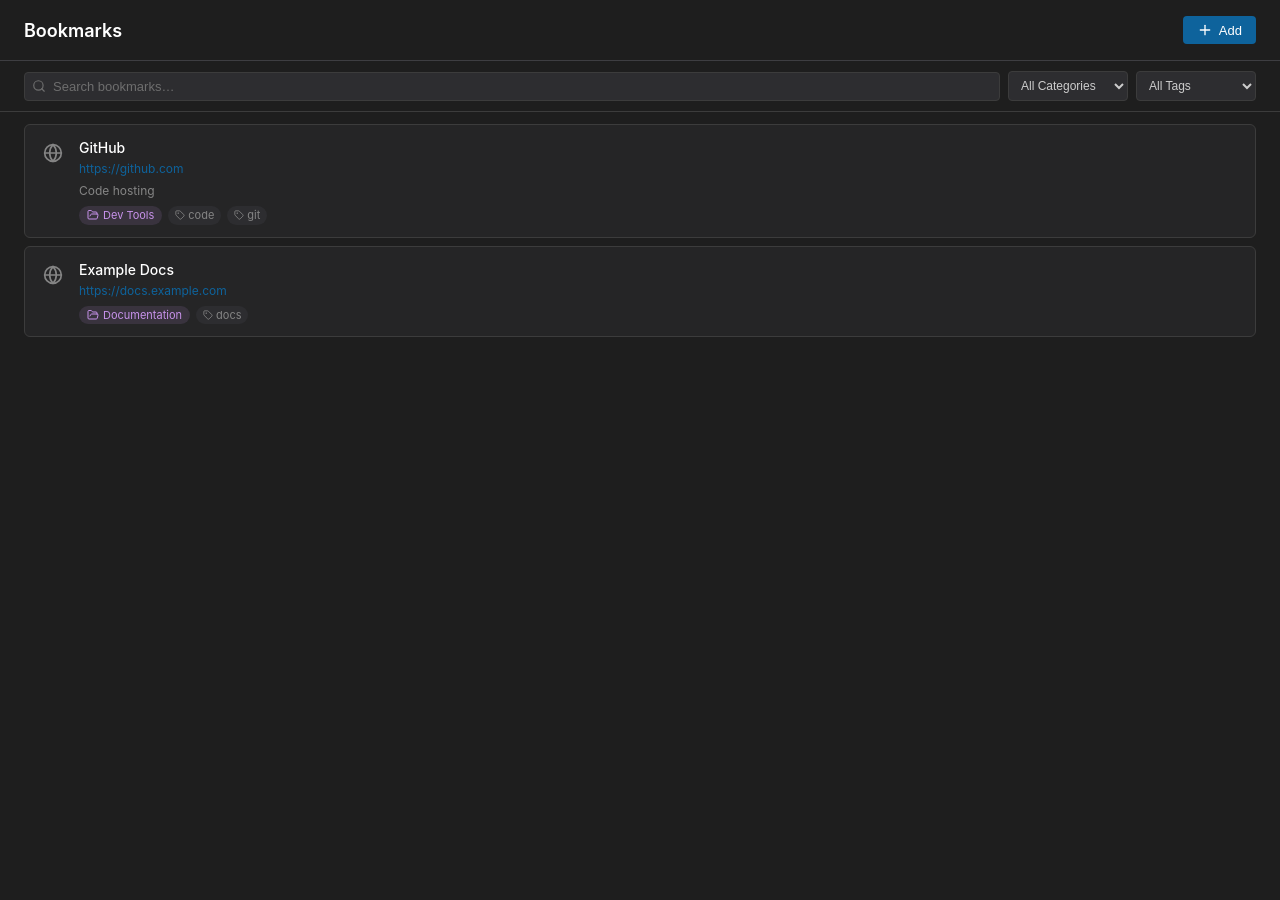
BookmarkList › opens add dialog when Add button is clicked
The width and height of the screenshot is (1280, 900).
Click the button titled "Add bookmark" at (1219, 30), box [1183, 16, 1256, 44]
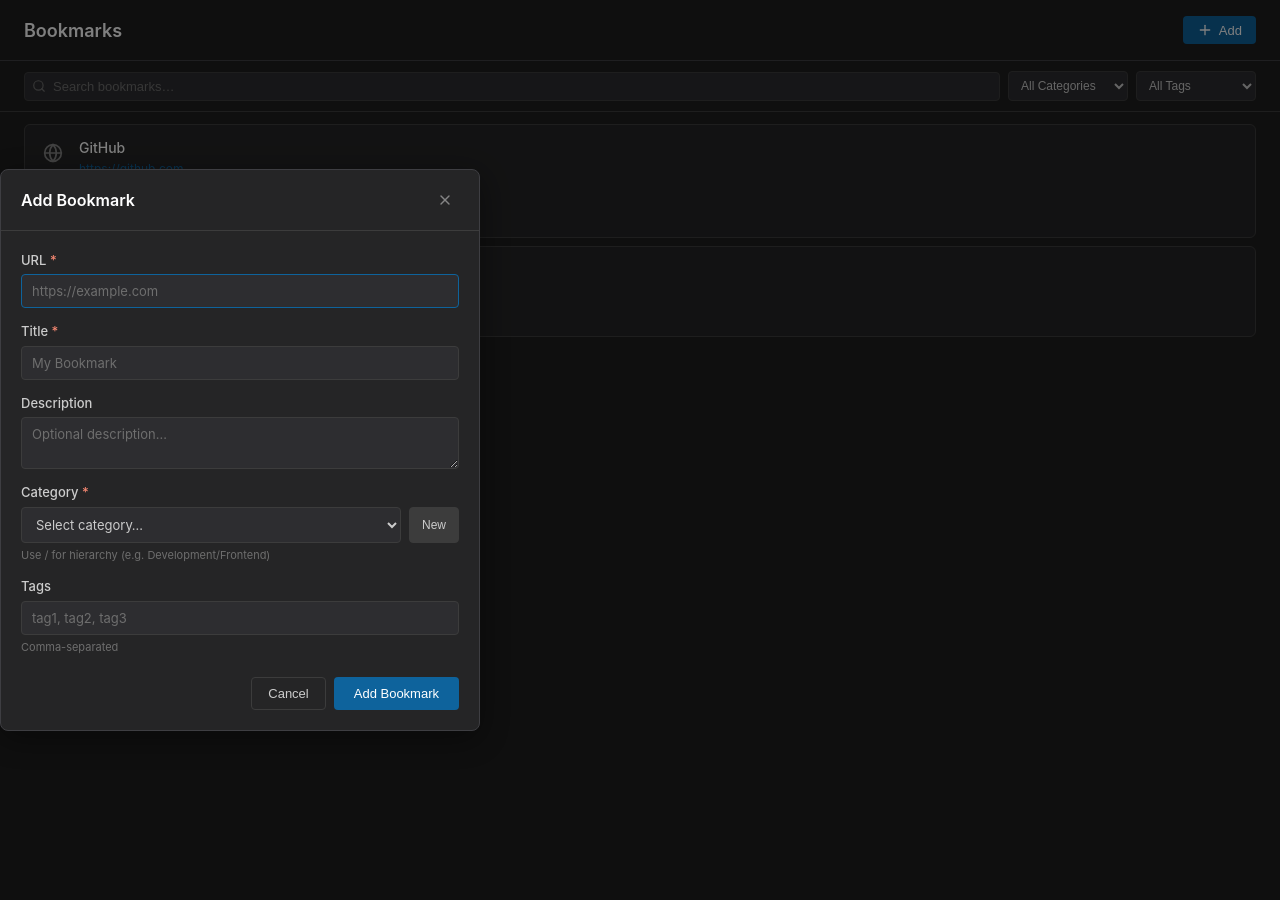
Expected: the dialog is shown, [0, 169, 480, 731]
Expected: the heading "Add Bookmark" is shown, [21, 188, 135, 212]
